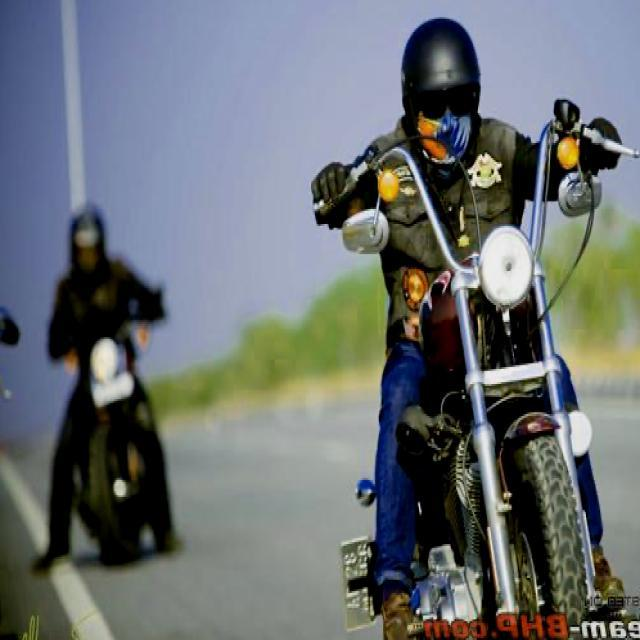Helmet: (395, 8, 483, 172)
